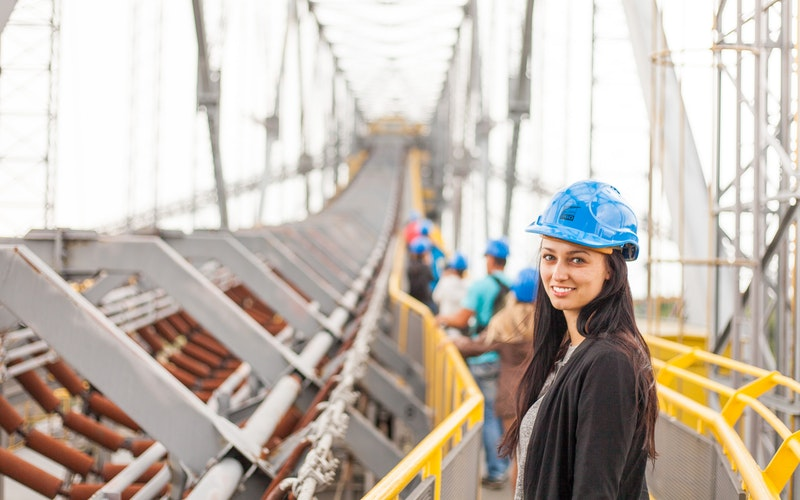helmet: (532, 175, 633, 270)
